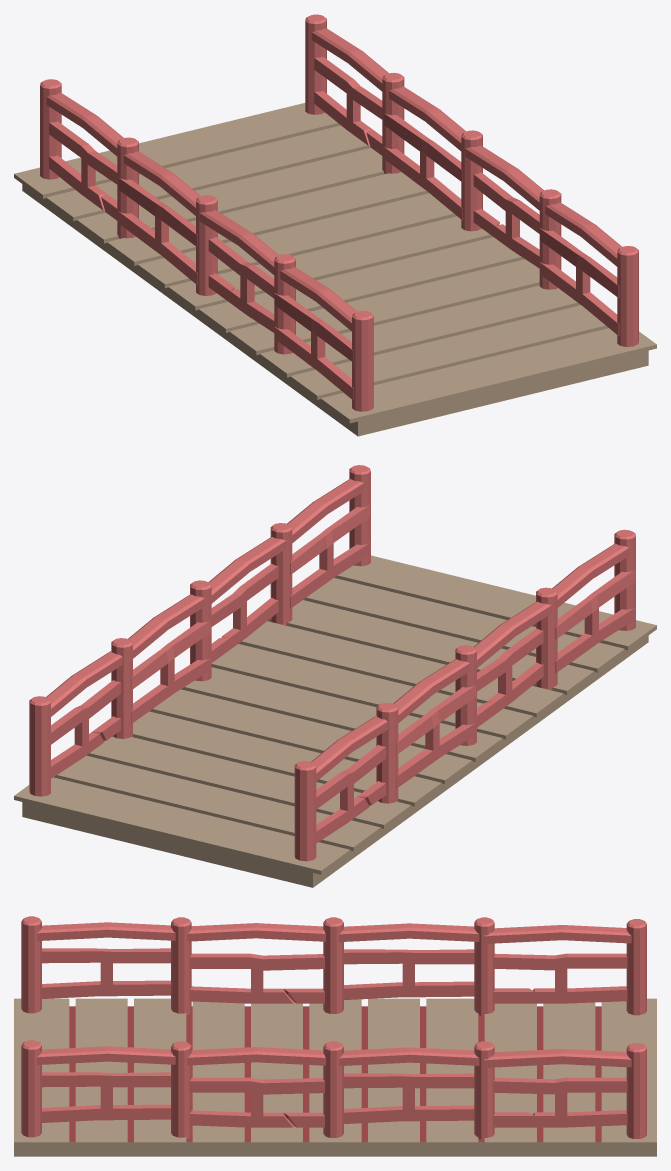
The model's file is ER_Asset_Bridge_modular.fbx.
3 renders of one model, top to bottom at view 1: azimuth 30°, elevation 25°; view 2: azimuth 150°, elevation 25°; view 3: azimuth 270°, elevation 25°, orthographic. The views are drawn at different scales.
Parts seen in each view (by area): view 1: group31_polySurface1251; view 2: group31_polySurface1251; view 3: group31_polySurface1251.
Part boxes in pixels (box(x1,y1,x2,y2)): group31_polySurface1251: box(14, 14, 656, 436); group31_polySurface1251: box(14, 465, 656, 887); group31_polySurface1251: box(14, 916, 656, 1156).
Size of the model in its own units: 4.23 by 1.48 by 8.
